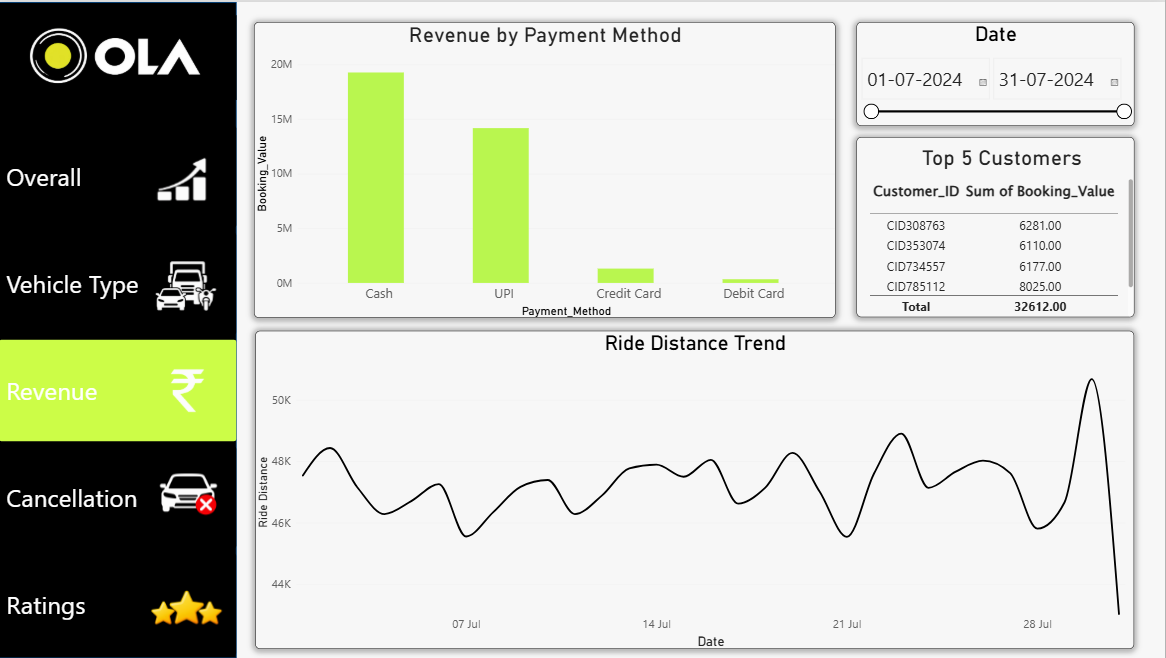

What the dashboard file says about the page in this screenshot:
{"tool":"powerbi","page":{"name":"Revenue","canvas":[1920,1080],"ordinal":2},"visuals":[{"type":"shape","box":[0,0,391.1,1080.6],"z":0},{"type":"image","box":[0,10.3,391.1,162.6],"z":1000},{"type":"pageNavigator","box":[0,203.2,391.1,876.8],"z":2000},{"type":"actionButton","box":[242.9,242.9,115.3,96.7],"z":3000},{"type":"actionButton","box":[195.5,378.7,224.4,162.6],"z":4000},{"type":"actionButton","box":[228.5,557.8,162.6,162.6],"z":5000},{"type":"actionButton","box":[197.6,720.4,228.5,179.1],"z":6000},{"type":"actionButton","box":[197.6,917.4,222.3,162.6],"z":7000},{"type":"columnChart","title":"Revenue by Payment Method","fields":{"Category":["Bookings-100000-Rows xlsx - July.Payment_Method"],"Y":["Sum(Bookings-100000-Rows xlsx - July.Booking_Value)"]},"box":[419.1,32.1,957.9,487.5],"z":8000},{"type":"lineChart","title":"Ride Distance Trend","fields":{"Category":["Bookings-100000-Rows xlsx - July.Date"],"Y":["Sum(Bookings-100000-Rows xlsx - July.Ride_Distance)"]},"box":[421.2,540.9,1447.5,523.8],"z":9000},{"type":"slicer","title":"Date","fields":{"Values":["Bookings-100000-Rows xlsx - July.Date"]},"box":[1411.1,32.1,457.6,171],"z":10000},{"type":"tableEx","title":"Top 5 Customers","fields":{"Values":["Bookings-100000-Rows xlsx - July.Customer_ID","Sum(Bookings-100000-Rows xlsx - July.Booking_Value)"]},"box":[1411.1,222.4,457.6,297.2],"z":11000}]}

Visuals, with their boxes in screenshot pixels (x1, y1, x2, y2), scaled from the page's 1920x1080 canvas onto the 1166x658 screenshot:
shape: BBox(0, 0, 238, 657)
image: BBox(0, 6, 238, 105)
pageNavigator: BBox(0, 124, 238, 657)
actionButton: BBox(148, 148, 218, 207)
actionButton: BBox(119, 231, 255, 330)
actionButton: BBox(139, 340, 238, 439)
actionButton: BBox(120, 439, 259, 548)
actionButton: BBox(120, 559, 255, 657)
"Revenue by Payment Method" columnChart: BBox(255, 20, 836, 317)
"Ride Distance Trend" lineChart: BBox(256, 330, 1135, 649)
"Date" slicer: BBox(857, 20, 1135, 124)
"Top 5 Customers" tableEx: BBox(857, 135, 1135, 317)
